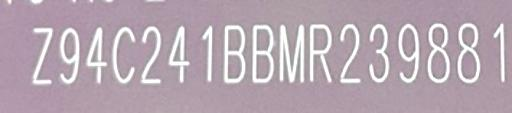letter: (454, 20, 482, 89), (276, 22, 306, 85), (365, 21, 393, 86), (220, 23, 248, 88), (307, 22, 335, 85), (110, 24, 138, 87), (396, 21, 422, 88), (28, 25, 56, 86), (250, 21, 276, 86), (338, 21, 364, 86), (166, 22, 192, 85), (138, 24, 164, 87), (426, 20, 450, 85), (84, 24, 108, 87), (57, 25, 81, 86), (489, 21, 509, 86), (198, 23, 216, 86)
